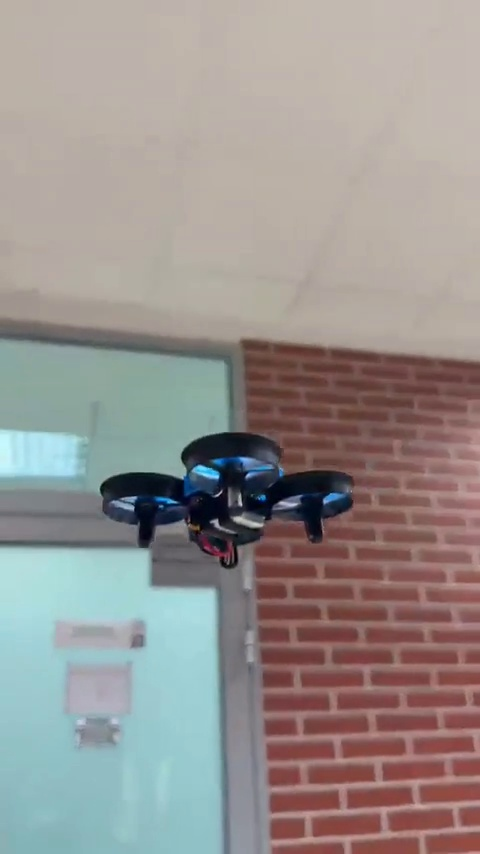drone: (102, 429, 357, 572)
